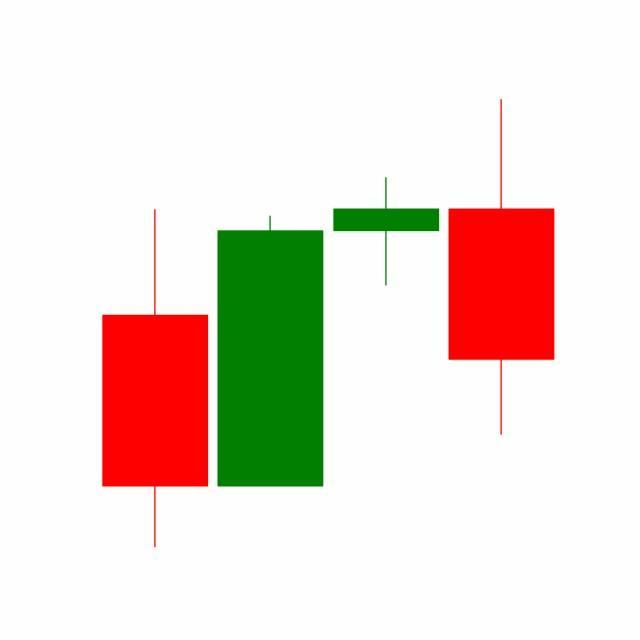Spinning Top: (329, 176, 445, 288)
